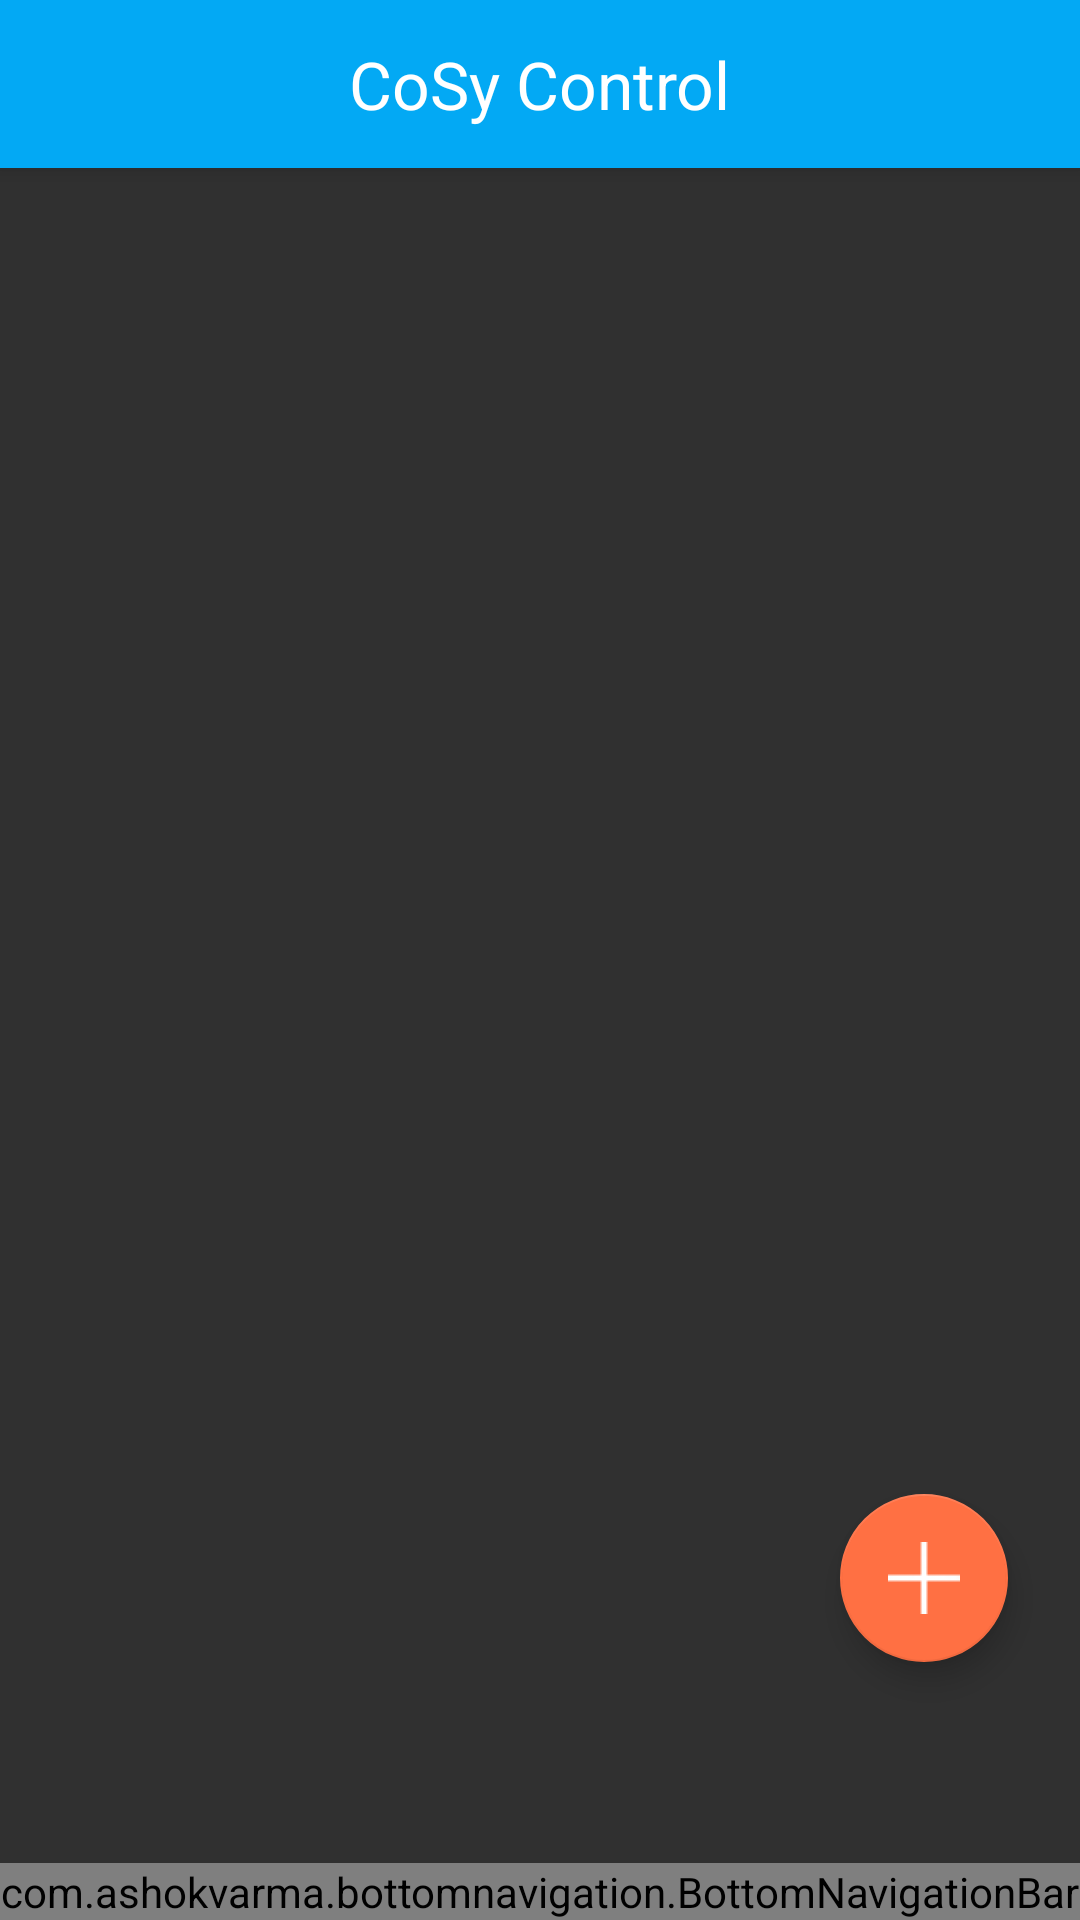

Icon bounding boxes for this 1080 × 1920 phone screenshot, format [x1,y1,x2,y2]:
add: [840,1494,1008,1662]
